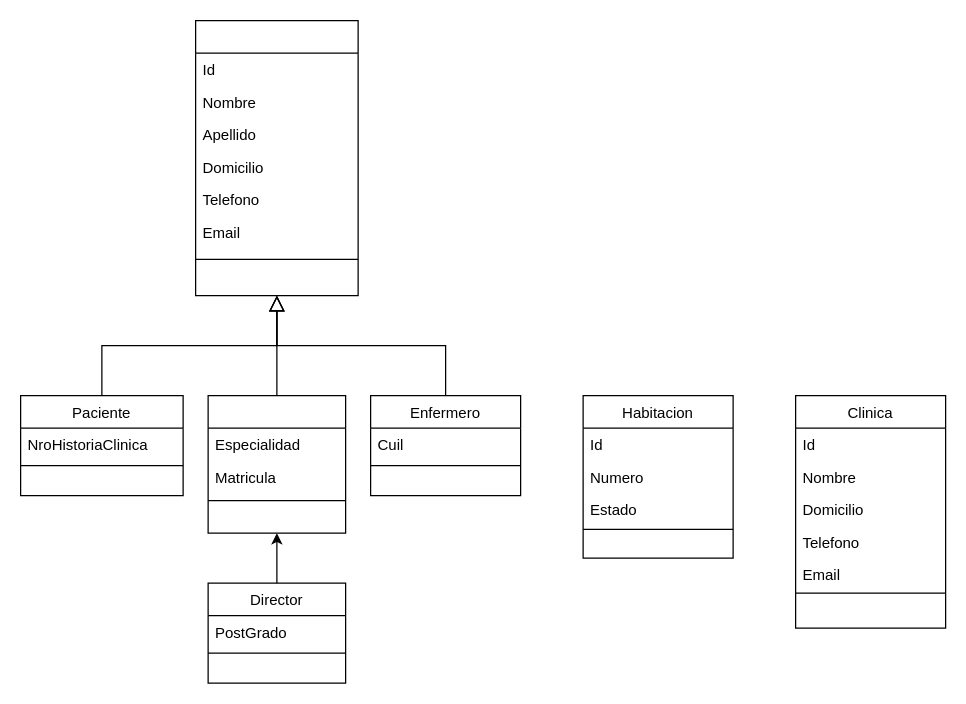
Some shapes in this 966 by 704 pixel diagram are drawn without their labels. Each missing label, with the box of its shape:
Medico: (207, 394, 346, 533)
Persona: (194, 19, 358, 296)
